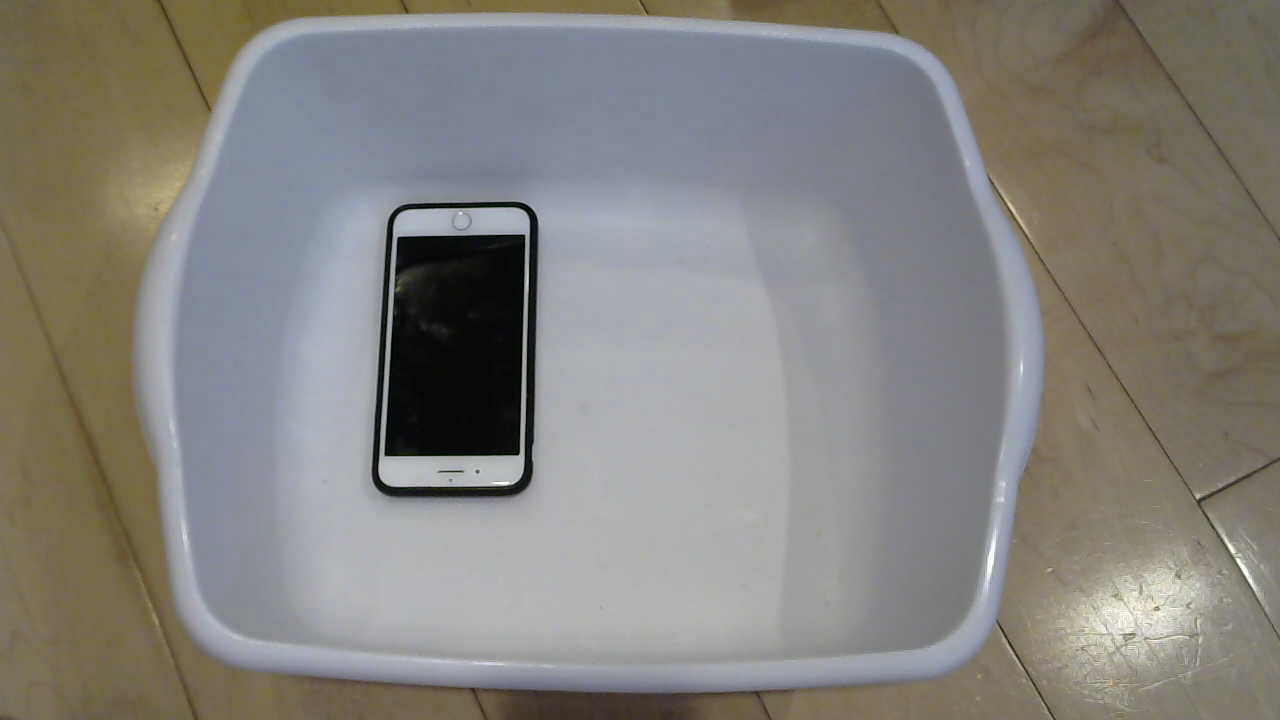phone: (351, 190, 558, 523)
